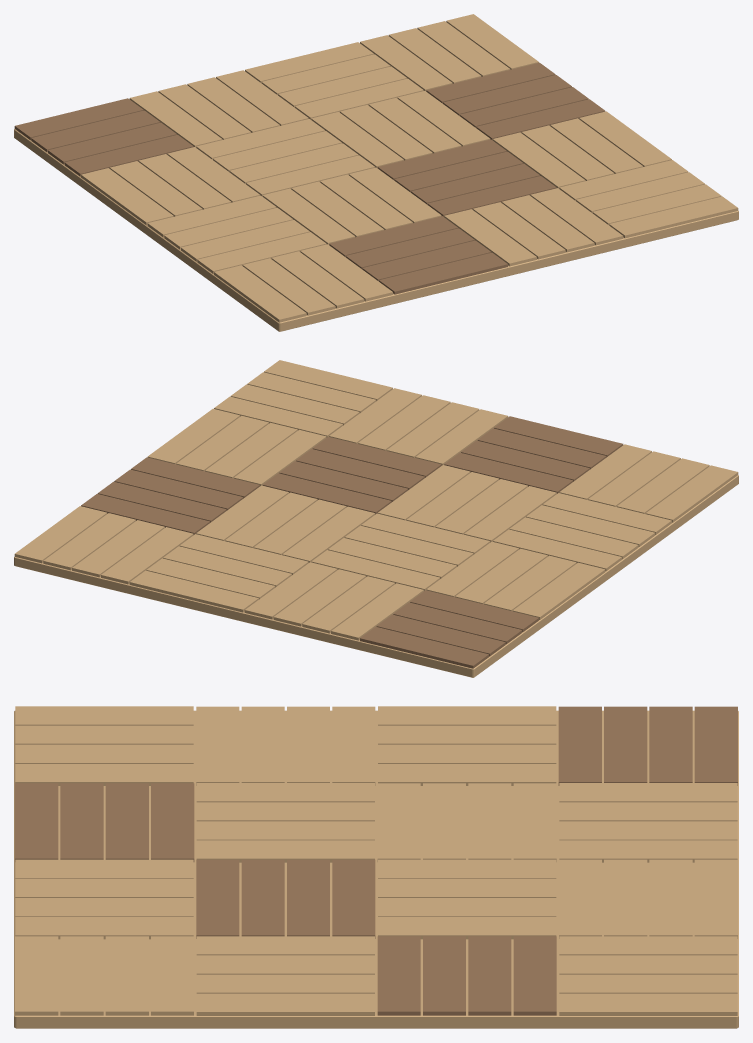
3 renders of one model, top to bottom at view 1: azimuth 30°, elevation 25°; view 2: azimuth 150°, elevation 25°; view 3: azimuth 270°, elevation 25°, orthographic. The views are drawn at different scales.
Parts seen in each view (by area): view 1: parquet-floor-tile; view 2: parquet-floor-tile; view 3: parquet-floor-tile.
Boxes of the visible parts, <box> form: parquet-floor-tile: <box>14,14,738,331</box>; parquet-floor-tile: <box>14,360,738,677</box>; parquet-floor-tile: <box>14,706,738,1028</box>.
Bounding box in the file's own units: 2 × 0.052 × 2.
